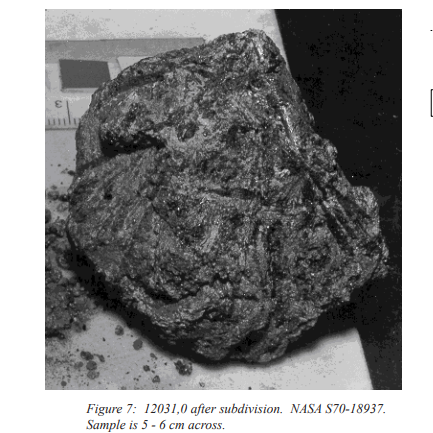Basalt: (43, 20, 404, 368)
